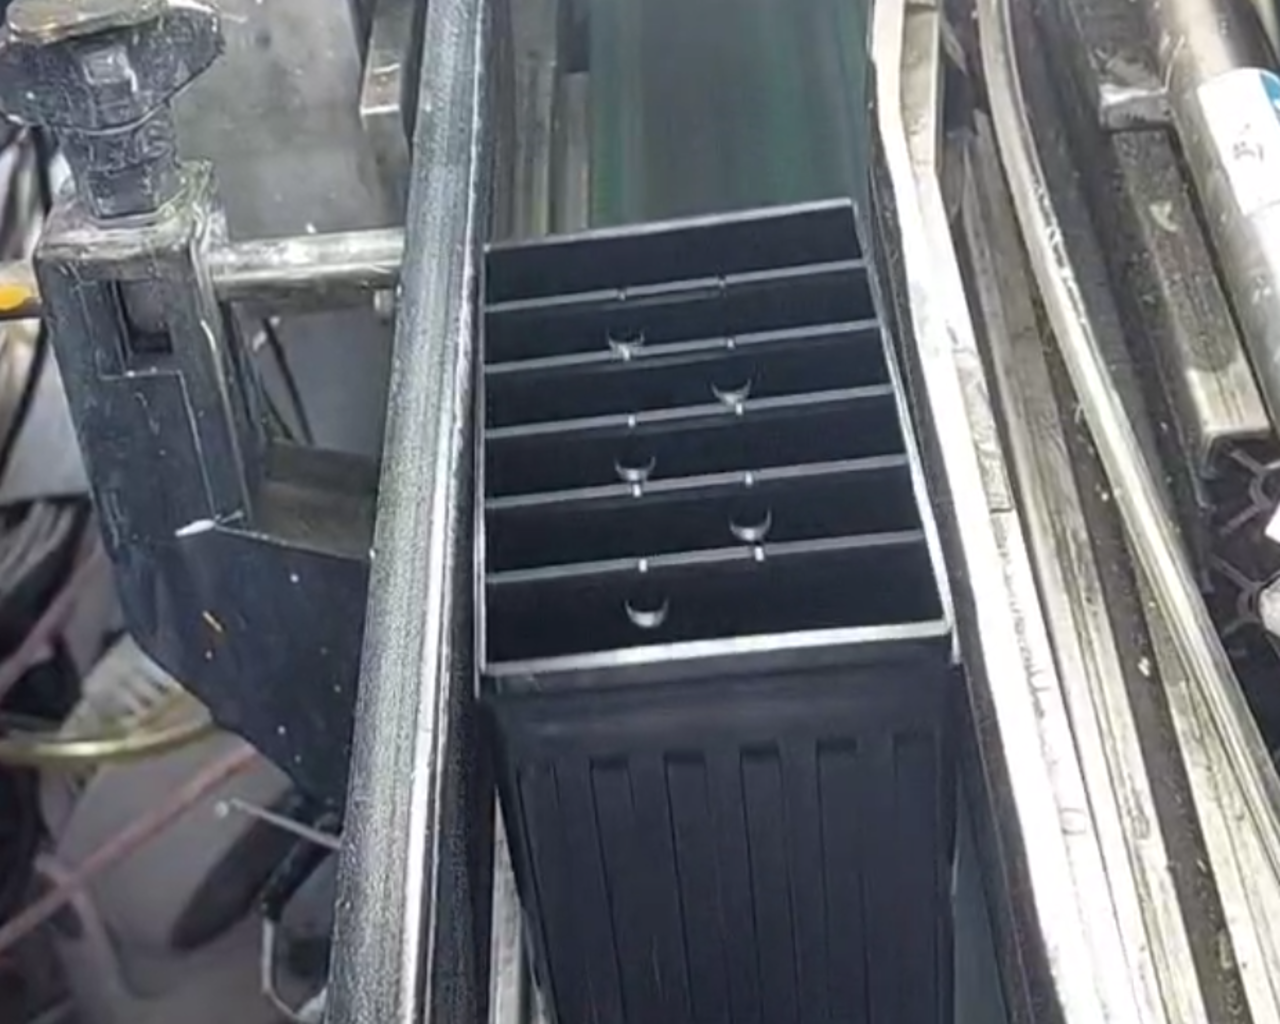box: (453, 182, 971, 709)
round: (611, 573, 684, 635), (713, 488, 784, 549), (600, 434, 666, 486), (592, 306, 656, 358), (704, 357, 762, 409)
